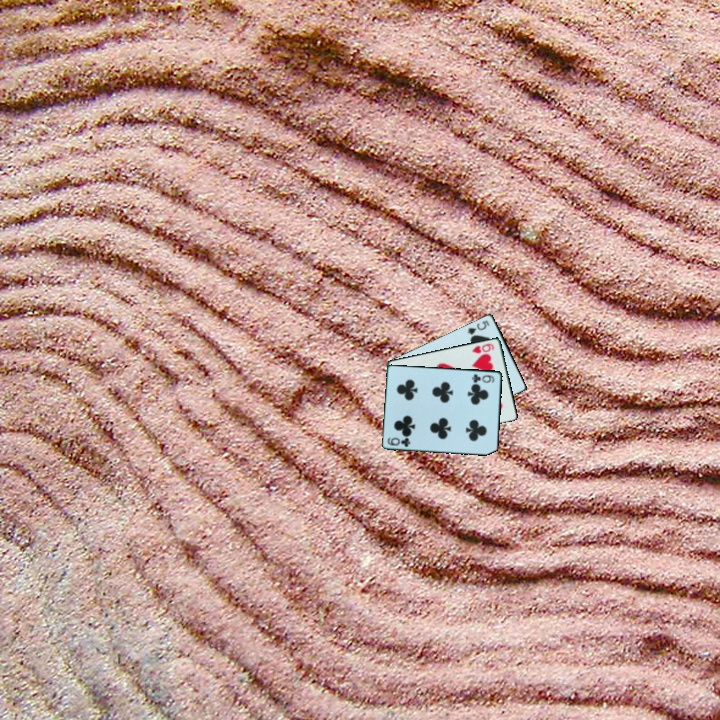5s: (464, 317, 492, 337)
6c: (384, 434, 413, 450), (469, 370, 497, 385)
6h: (468, 340, 497, 356)
